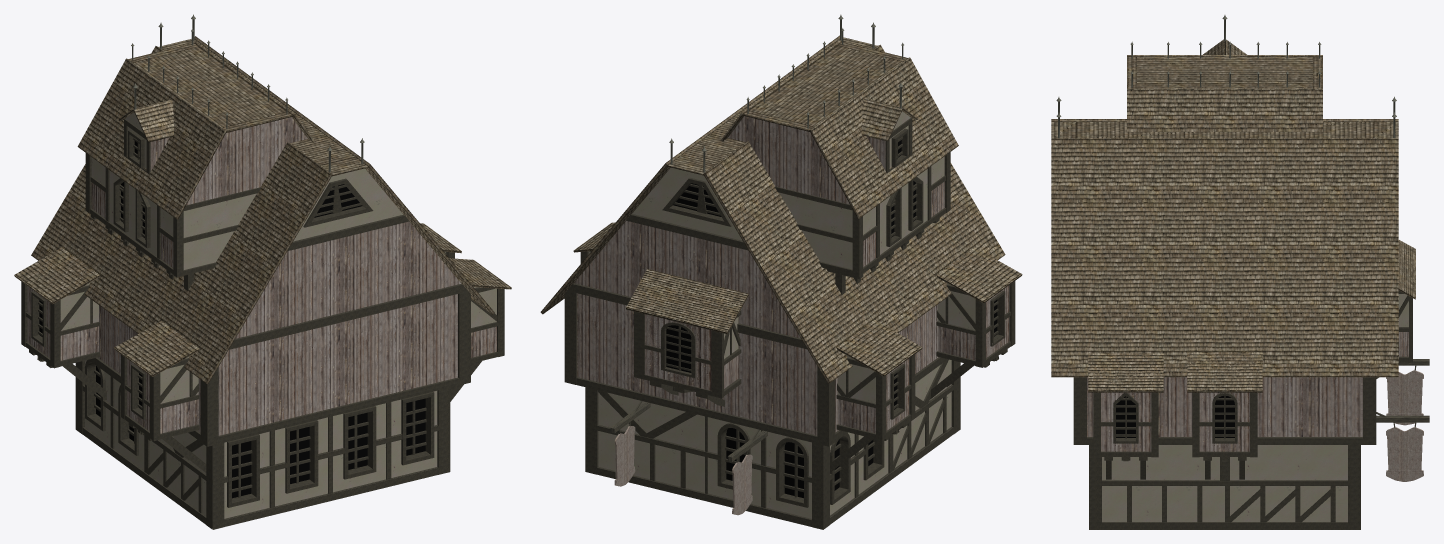
The model's file is Medieval_building.obj.
3 renders of one model, left to right at view 1: azimuth 30°, elevation 25°; view 2: azimuth 150°, elevation 25°; view 3: azimuth 270°, elevation 25°, orthographic.
Bounding box in the file's own units: 4.11 × 4.35 × 3.76.
